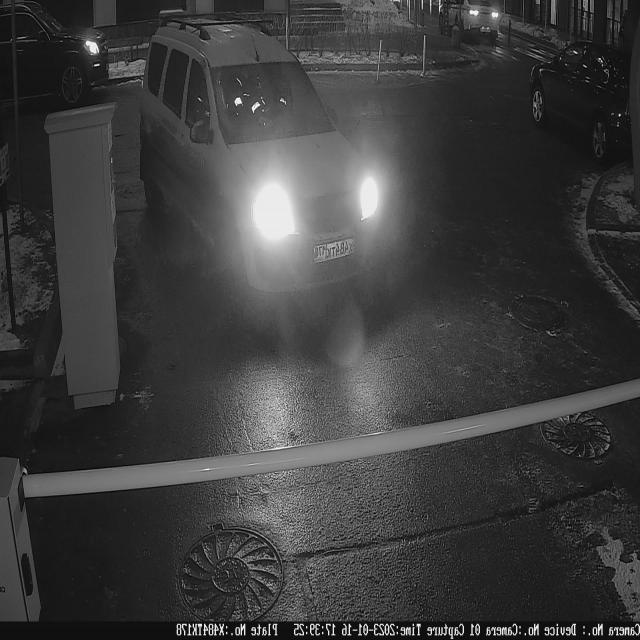car-plate-numbers: (313, 233, 357, 271)
